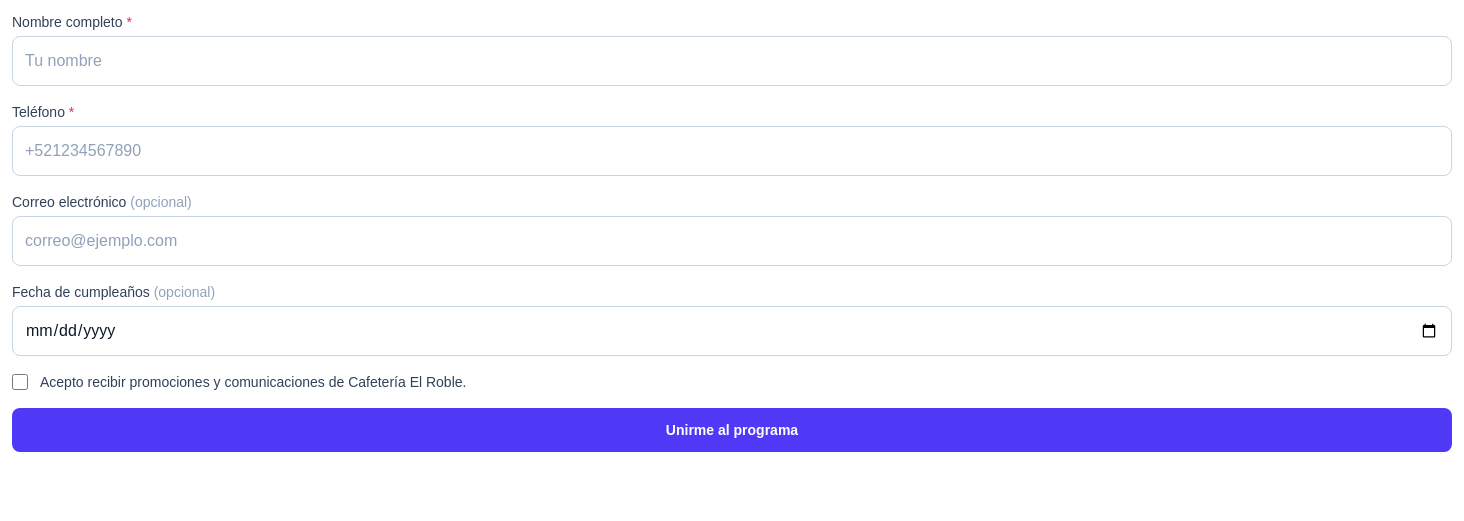
it: PublicRegistrationForm integration › shows error when only phone is missing
In the field labelled "Nombre completo *": (732,61) [12, 36, 1452, 86], type "Ana López"
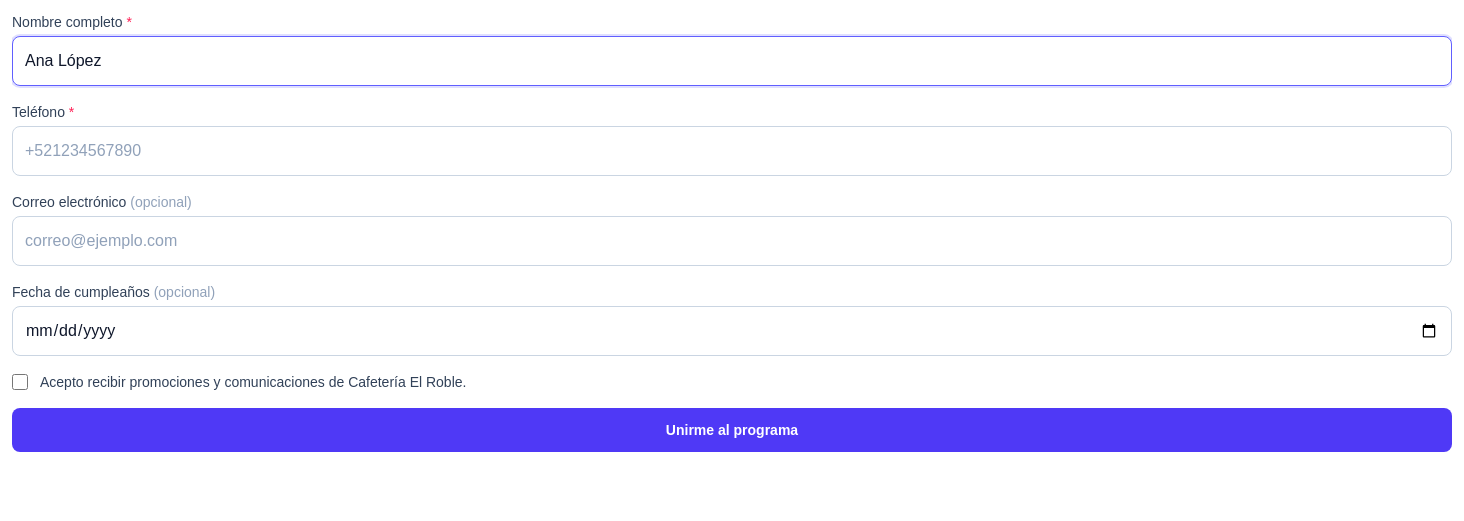
phone intentionally left blank
Click the button "Unirme al programa": (732,430) [12, 408, 1452, 452]
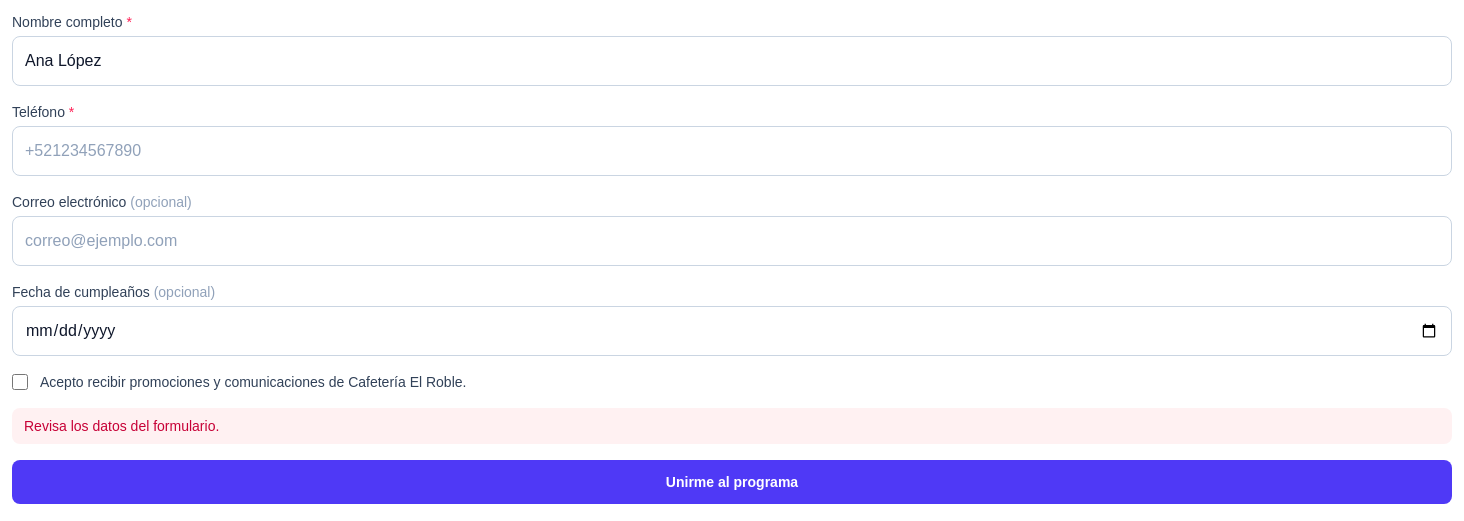
expect the text "Revisa los datos del formulario." is shown: met, box [12, 408, 1452, 444]
